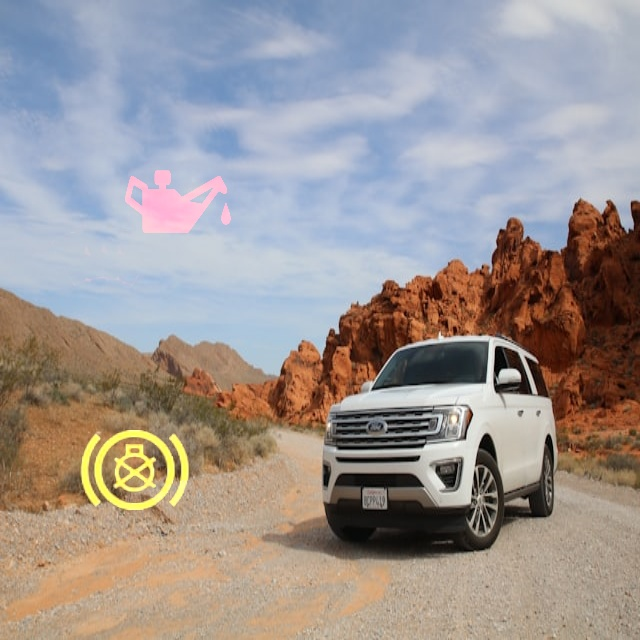symbol: (15, 174, 195, 354), (97, 114, 260, 277), (57, 394, 212, 549)
